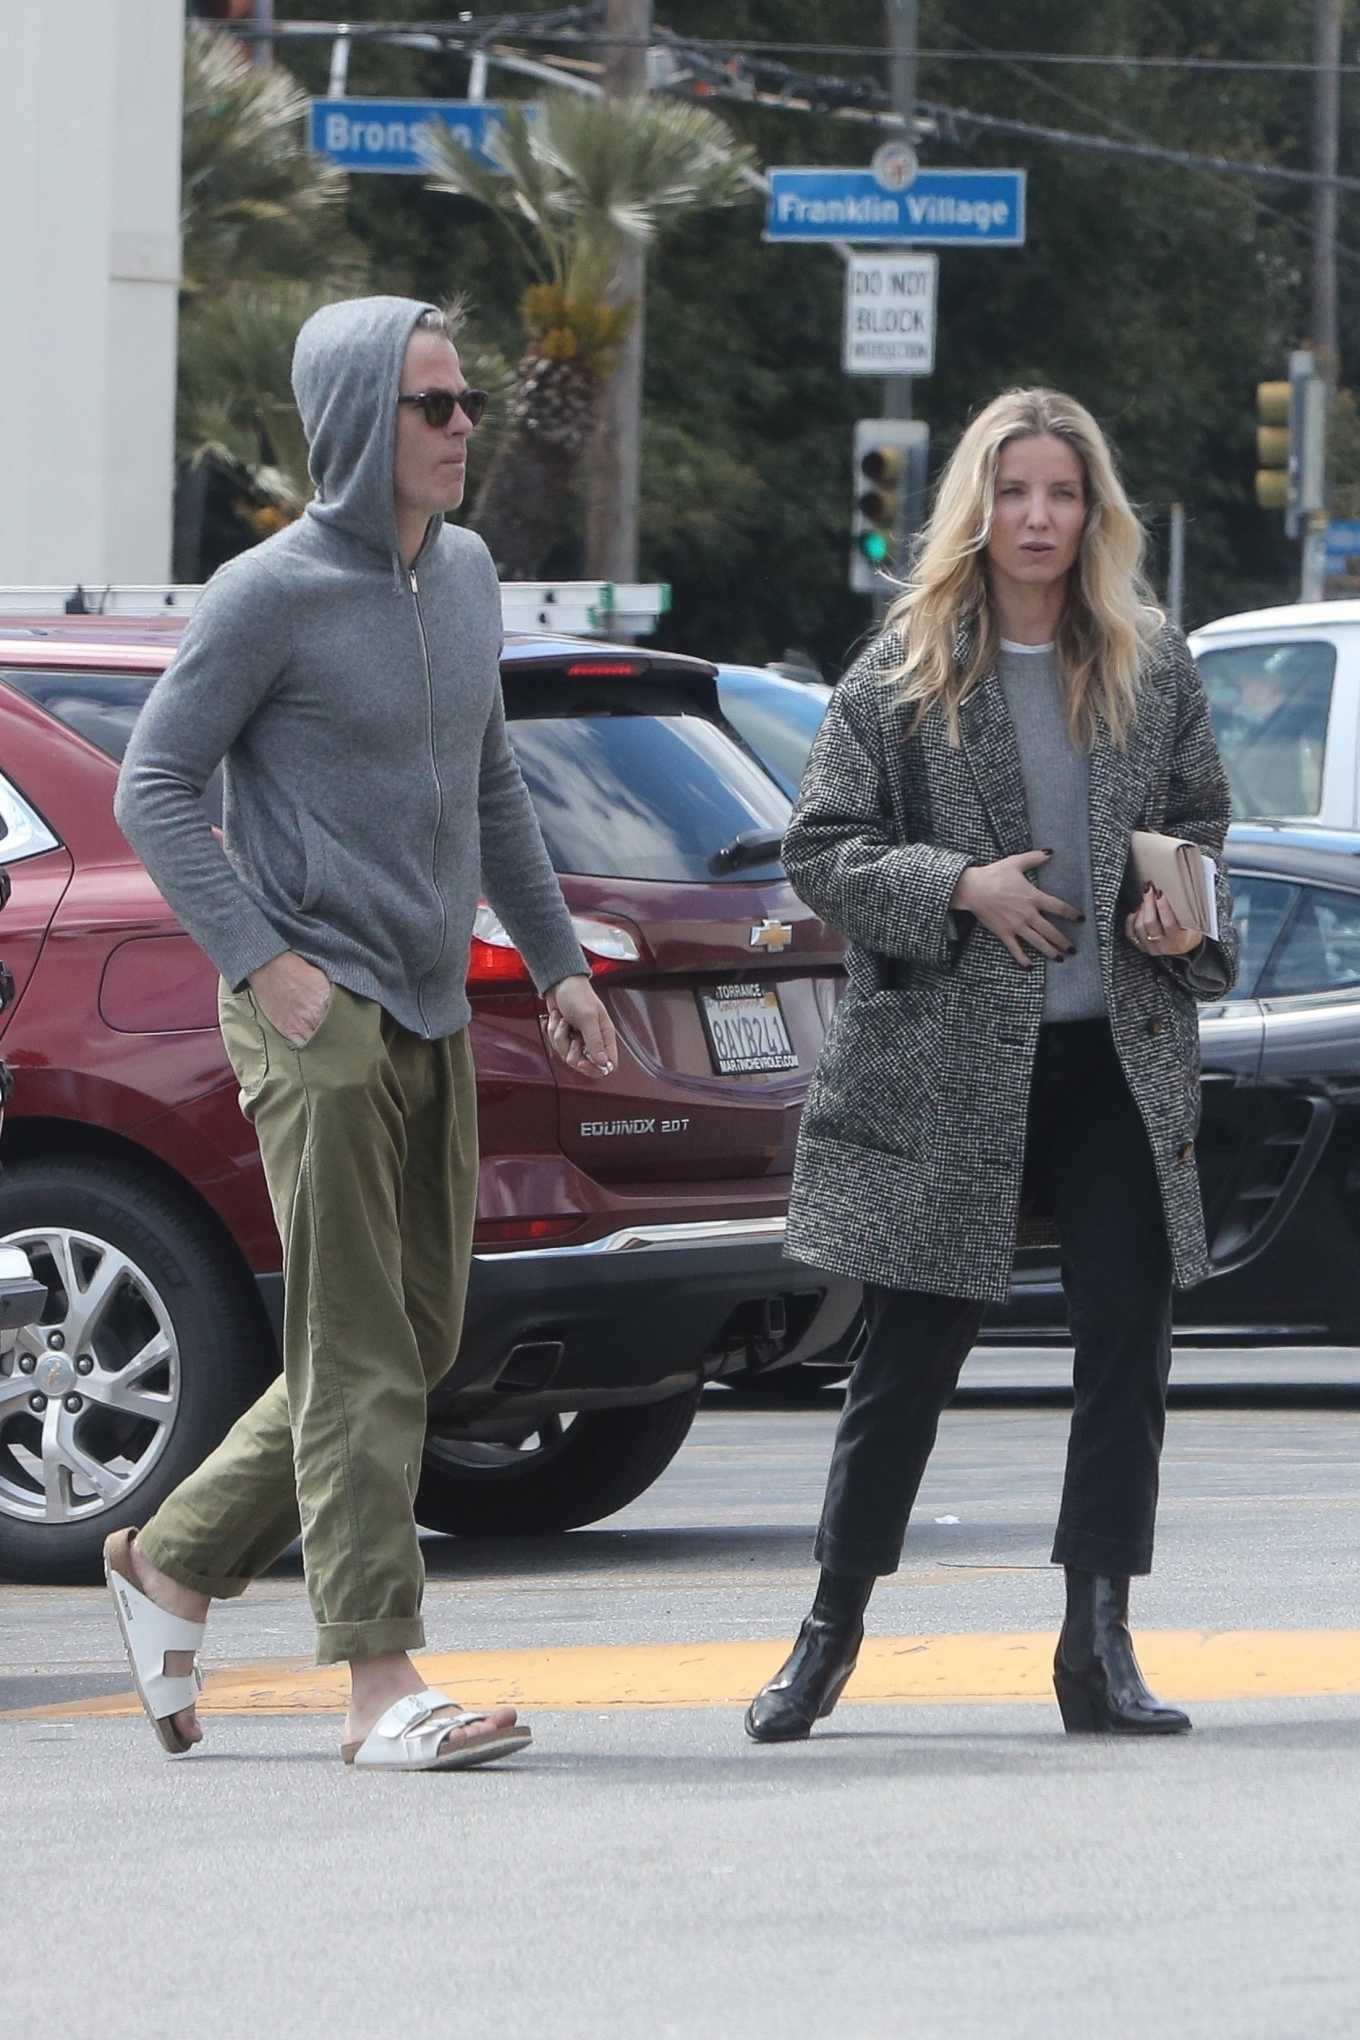Person: (103, 293, 618, 1776), (740, 387, 1240, 1746)
